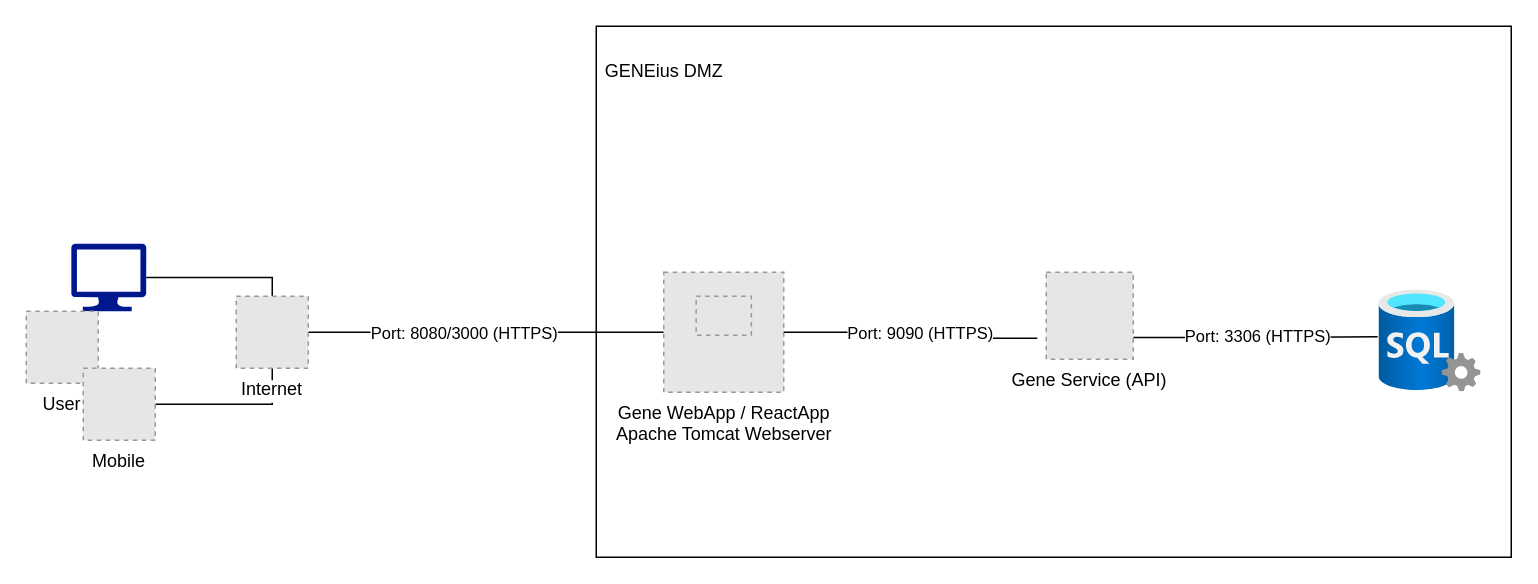
Some shapes in this 1538 by 584 pixel diagram are drawn without their labels. Grey dashed boxes stand in for pictures. The shapes that lost their labels are listed below. From the top down, each one's centre as x and y in pixels, then its label:
the point at 108,276: Client
the point at 1429,341: DB GeneInfo MySQL Database
